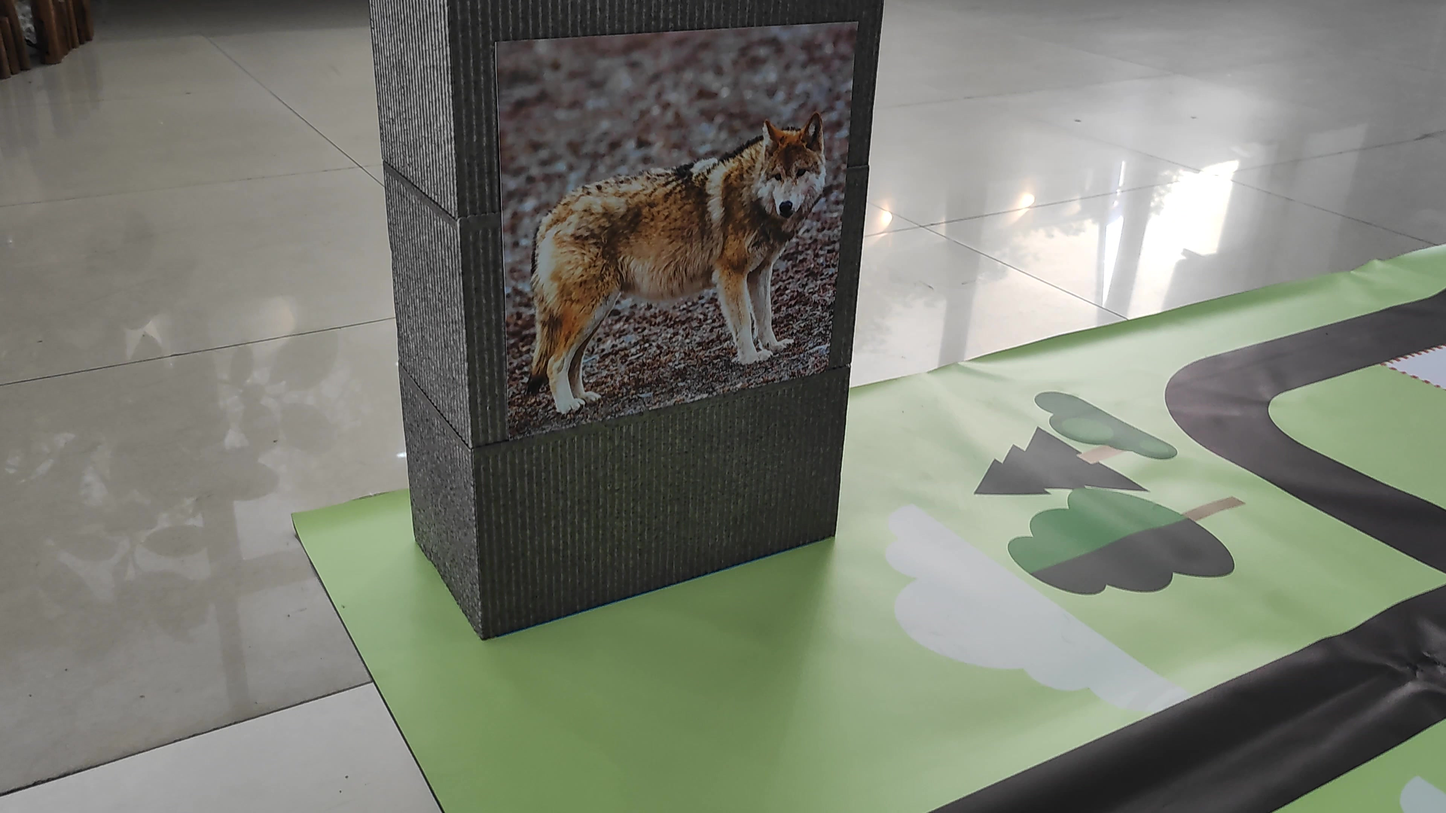wolf: (519, 98, 836, 410)
